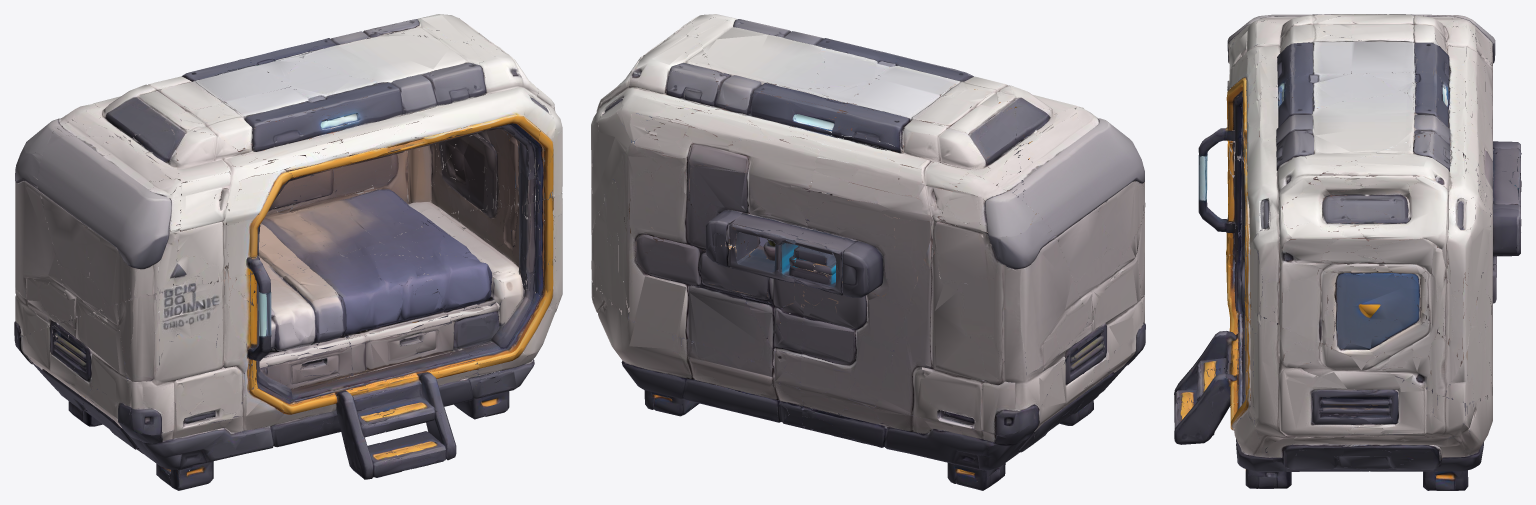
Rendered from Bed.glb.
3 renders of one model, left to right at view 1: azimuth 30°, elevation 25°; view 2: azimuth 150°, elevation 25°; view 3: azimuth 270°, elevation 25°, orthographic.
Parts seen in each view (by area): view 1: tripo_part_0, tripo_part_1, tripo_part_2, tripo_part_13, tripo_part_4, tripo_part_11, tripo_part_5, tripo_part_10, tripo_part_14, tripo_part_8, tripo_part_17, tripo_part_3 (+4 smaller); view 2: tripo_part_0, tripo_part_1, tripo_part_13, tripo_part_12, tripo_part_22, tripo_part_20, tripo_part_27, tripo_part_11, tripo_part_35, tripo_part_19, tripo_part_31, tripo_part_10 (+1 smaller); view 3: tripo_part_0, tripo_part_1, tripo_part_25, tripo_part_11, tripo_part_12, tripo_part_18, tripo_part_5, tripo_part_34, tripo_part_20, tripo_part_31, tripo_part_10, tripo_part_33 (+3 smaller).
Boxes of the visible parts, bbox=[...] form: tripo_part_0: bbox=[15, 14, 562, 440]; tripo_part_1: bbox=[14, 123, 544, 490]; tripo_part_2: bbox=[261, 189, 492, 334]; tripo_part_13: bbox=[15, 118, 174, 269]; tripo_part_4: bbox=[252, 193, 523, 368]; tripo_part_11: bbox=[244, 62, 486, 151]; tripo_part_5: bbox=[250, 114, 553, 378]; tripo_part_10: bbox=[149, 82, 522, 307]; tripo_part_14: bbox=[263, 322, 455, 389]; tripo_part_8: bbox=[269, 144, 408, 210]; tripo_part_17: bbox=[439, 133, 496, 218]; tripo_part_3: bbox=[158, 256, 316, 351]; tripo_part_0: bbox=[591, 14, 1145, 441]; tripo_part_1: bbox=[621, 61, 1145, 490]; tripo_part_13: bbox=[983, 118, 1144, 269]; tripo_part_12: bbox=[666, 62, 911, 152]; tripo_part_22: bbox=[636, 234, 770, 303]; tripo_part_20: bbox=[729, 213, 857, 295]; tripo_part_27: bbox=[704, 250, 868, 329]; tripo_part_11: bbox=[733, 19, 973, 81]; tripo_part_35: bbox=[842, 241, 882, 297]; tripo_part_19: bbox=[729, 212, 793, 272]; tripo_part_31: bbox=[705, 210, 742, 267]; tripo_part_10: bbox=[624, 71, 1008, 308]; tripo_part_0: bbox=[1227, 14, 1492, 457]; tripo_part_1: bbox=[1174, 93, 1483, 490]; tripo_part_25: bbox=[1337, 273, 1420, 349]; tripo_part_11: bbox=[1276, 42, 1317, 171]; tripo_part_12: bbox=[1413, 42, 1450, 171]; tripo_part_18: bbox=[1312, 389, 1398, 424]; tripo_part_5: bbox=[1226, 77, 1250, 430]; tripo_part_34: bbox=[1323, 195, 1409, 223]; tripo_part_20: bbox=[1493, 148, 1521, 248]; tripo_part_31: bbox=[1491, 204, 1521, 256]; tripo_part_10: bbox=[1270, 97, 1471, 376]; tripo_part_33: bbox=[1226, 232, 1236, 334].
Size of the model in its own units: 0.9792 by 0.6859 by 0.6475.
51 materials, 51 textured.
